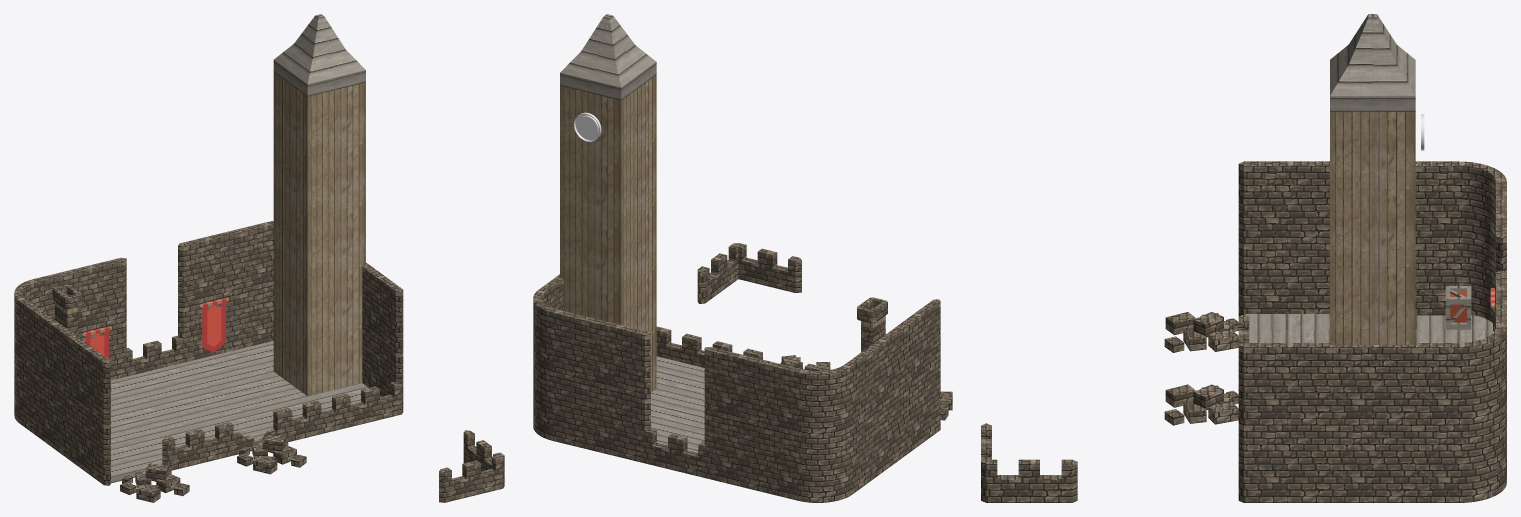
File: test_ruina.fbx
3 views of the same model, side by side, from view 1: azimuth 30°, elevation 25°; view 2: azimuth 150°, elevation 25°; view 3: azimuth 270°, elevation 25° (orthographic). The views are drawn at different scales.
Visible parts, largest first — view 1: mergedBlocks; view 2: mergedBlocks; view 3: mergedBlocks.
Part boxes in pixels (x1,y1,x2,y2): mergedBlocks: (14,14,504,502); mergedBlocks: (533,14,952,502); mergedBlocks: (981,14,1506,502).
Bounding box in the file's own units: 51.25 × 60 × 61.25.
